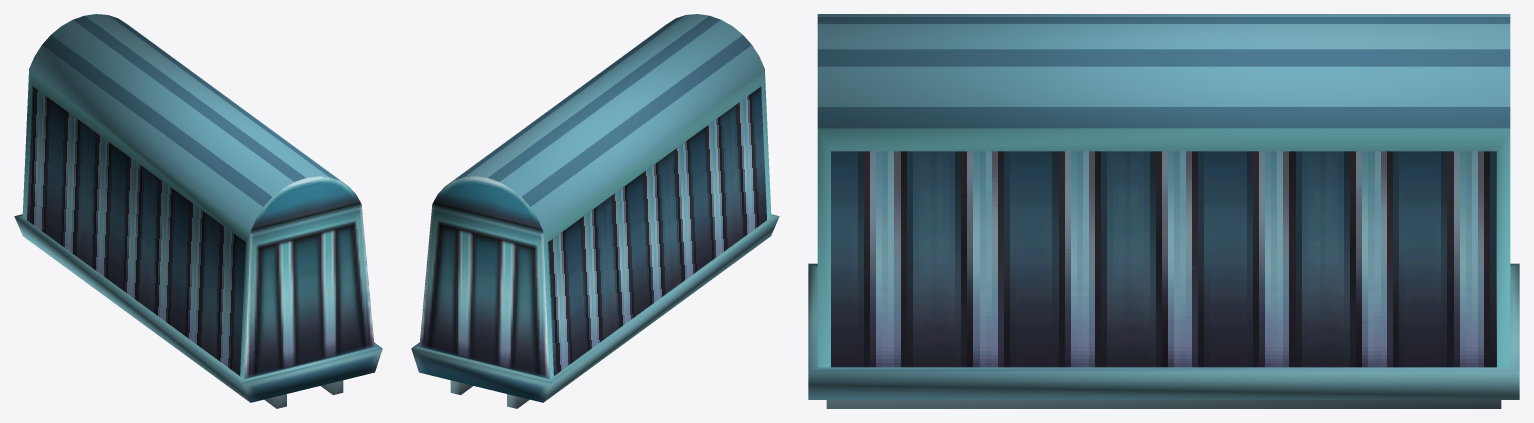
Rendered from CargoTrain.glb.
The picture shows the model from 3 angles, left to right: view 1: azimuth 30°, elevation 25°; view 2: azimuth 150°, elevation 25°; view 3: azimuth 270°, elevation 25°; orthographic projection. The views are drawn at different scales.
Parts seen in each view (by area): view 1: Material3 (×2), Material2 (×2); view 2: Material3 (×2), Material2 (×2); view 3: Material3 (×2), Material2 (×2).
Part boxes in pixels (x1=…): Material3 (×2): x1=27, y1=14, x2=346, y2=375; Material2 (×2): x1=14, y1=69, x2=382, y2=408; Material3 (×2): x1=447, y1=14, x2=766, y2=375; Material2 (×2): x1=411, y1=69, x2=779, y2=408; Material3 (×2): x1=817, y1=14, x2=1510, y2=367; Material2 (×2): x1=808, y1=128, x2=1519, y2=408.
Size of the model in its own units: 54.04 by 83.1 by 151.
4 materials, 3 textured.
